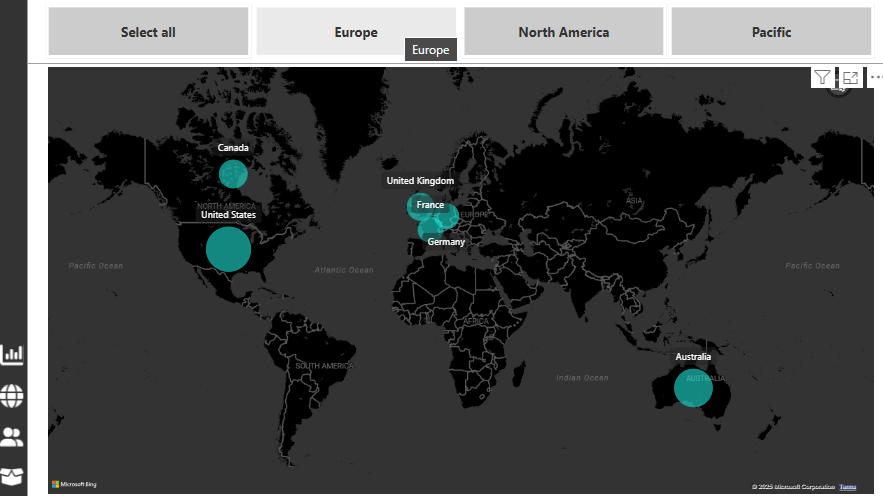

What the dashboard file says about the page in this screenshot:
{"tool":"powerbi","page":{"name":"Map","canvas":[1280,720],"ordinal":1},"visuals":[{"type":"shape","box":[0,0,45,720],"z":0},{"type":"actionButton","box":[1.2,485.5,41.6,46.5],"z":1000,"group":"g1"},{"type":"map","fields":{"Category":["Territory Lookup.Country"],"Size":["Measure Table.Total orders"]},"box":[69.7,92.9,1188.6,620],"z":1000},{"type":"slicer","fields":{"Values":["Territory Lookup.Continent"]},"box":[44.7,0,1235,92.3],"z":2000},{"type":"actionButton","box":[1.2,602.1,41.6,46.5],"z":2000,"group":"g1"},{"type":"actionButton","box":[1.2,543.8,41.6,46.5],"z":3000,"group":"g1"},{"type":"group","id":"g1","title":"Navigation Button","box":[1.2,485.5,41.6,221.3],"z":3000},{"type":"actionButton","box":[1.2,660.4,41.6,46.5],"z":4000,"group":"g1"}]}

Visuals, with their boxes in screenshot pixels (x1, y1, x2, y2), scaled from the page's 1280x720 canvas onto the 883x496 screenshot:
shape: 0/0/31/495
actionButton: 1/334/30/366
map - Territory Lookup.Country x Measure Table.Total orders: 48/64/868/491
slicer - Territory Lookup.Continent: 31/0/882/64
actionButton: 1/415/30/447
actionButton: 1/375/30/407
"Navigation Button" group: 1/334/30/487
actionButton: 1/455/30/487
